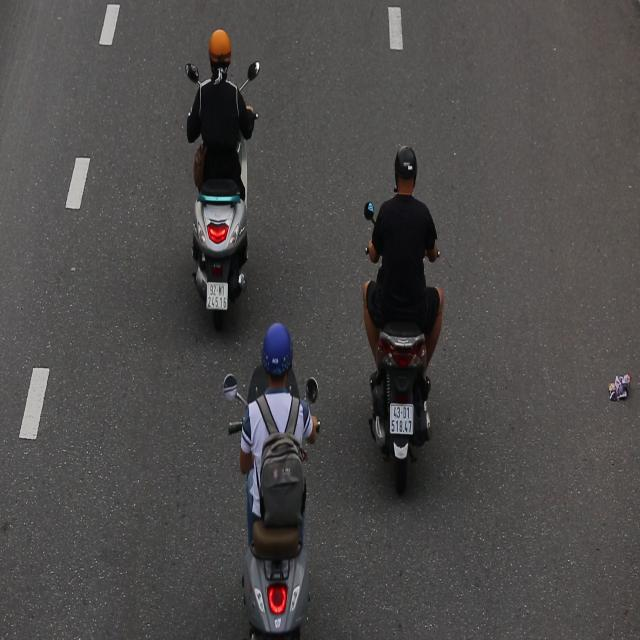motorbike: (348, 128, 448, 492), (182, 11, 262, 330)
